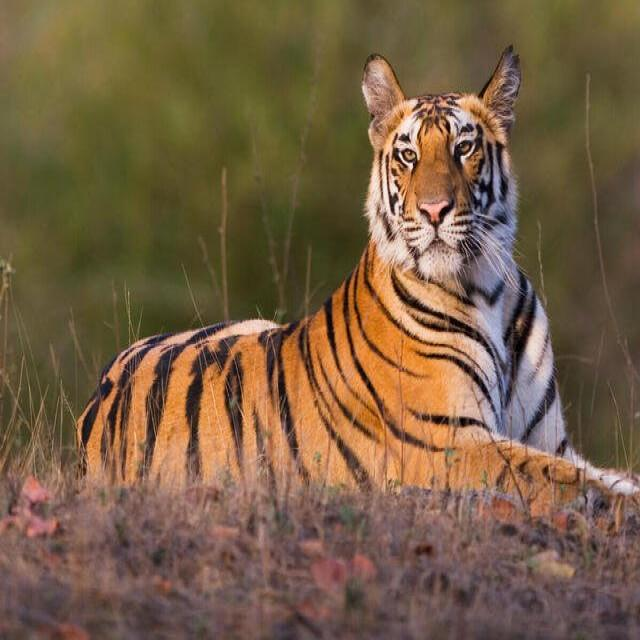Tiger: (73, 43, 639, 524)
